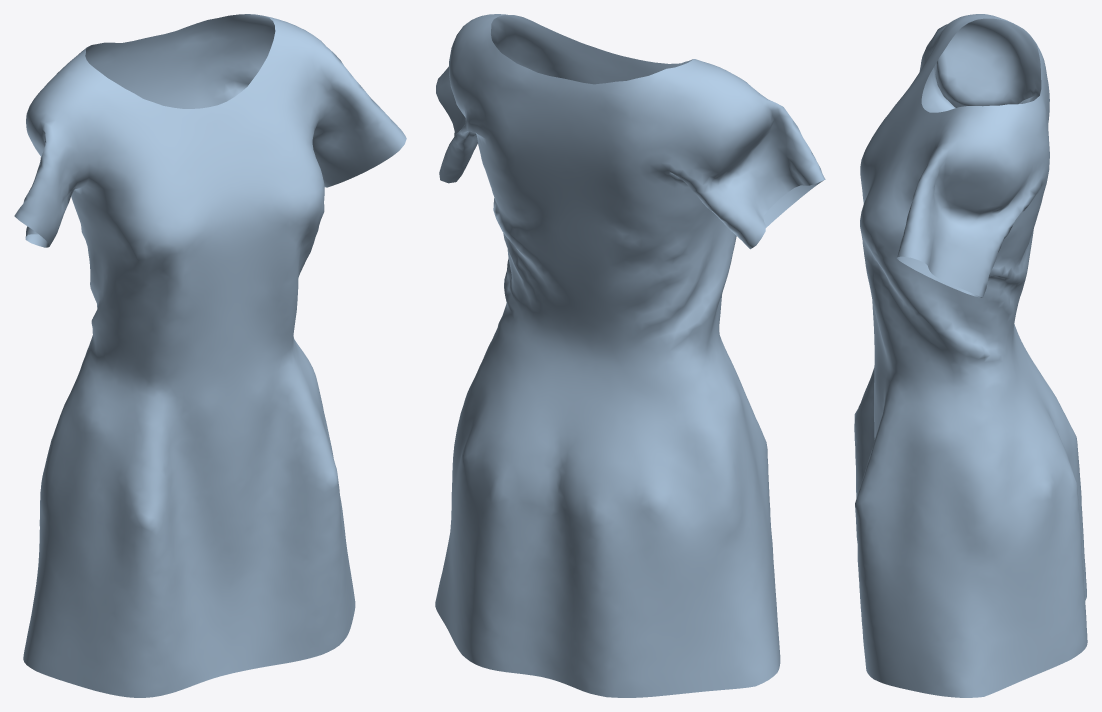
File: dress_XS.glb
3 views of the same model, side by side, from view 1: azimuth 30°, elevation 25°; view 2: azimuth 150°, elevation 25°; view 3: azimuth 270°, elevation 25° (orthographic). The views are drawn at different scales.
Visible parts, largest first — view 1: geometry_0; view 2: geometry_0; view 3: geometry_0.
Part boxes in pixels (x1=…): geometry_0: x1=14, y1=14, x2=406, y2=697; geometry_0: x1=435, y1=14, x2=825, y2=697; geometry_0: x1=854, y1=14, x2=1087, y2=697.
Size of the model in its own units: 0.5011 by 0.7448 by 0.2745.
